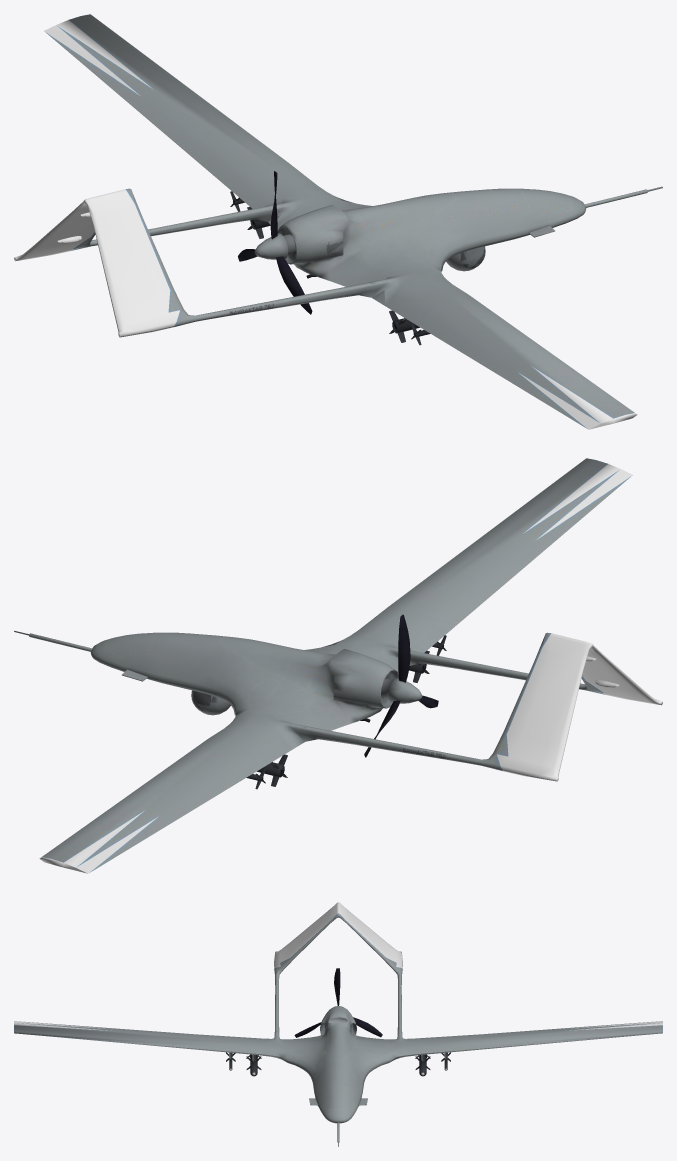
3 views of the same model, one above another, from view 1: azimuth 30°, elevation 25°; view 2: azimuth 150°, elevation 25°; view 3: azimuth 270°, elevation 25° (orthographic). The views are drawn at different scales.
Parts seen in each view (by area): view 1: g_tb2_hull, g_tb2_rotor; view 2: g_tb2_hull, g_tb2_rotor; view 3: g_tb2_hull, g_tb2_rotor.
Part boxes in pixels (x1=…): g_tb2_hull: x1=14, y1=14, x2=662, y2=429; g_tb2_rotor: x1=238, y1=171, x2=312, y2=314; g_tb2_hull: x1=14, y1=458, x2=662, y2=873; g_tb2_rotor: x1=364, y1=614, x2=438, y2=757; g_tb2_hull: x1=14, y1=902, x2=662, y2=1146; g_tb2_rotor: x1=294, y1=968, x2=382, y2=1037.
Size of the model in its own units: 7.57 by 1.98 by 12.
3 materials, 2 textured.
